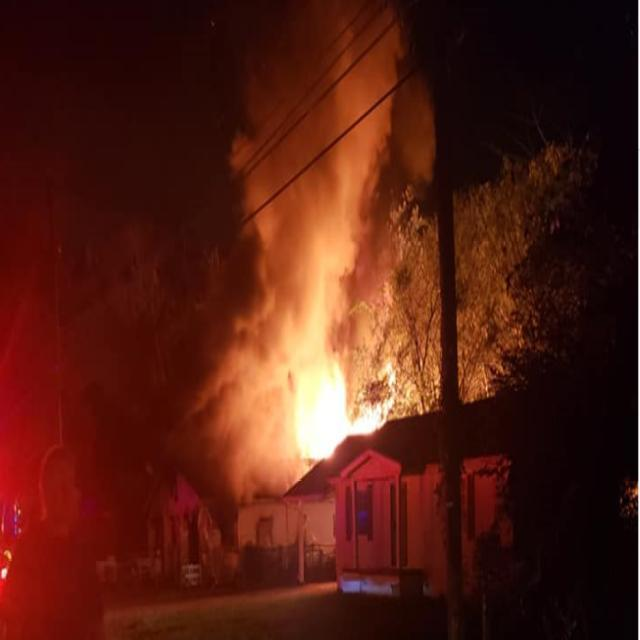Fire: (291, 342, 392, 481)
Smoke: (214, 19, 393, 340), (170, 339, 290, 497)
